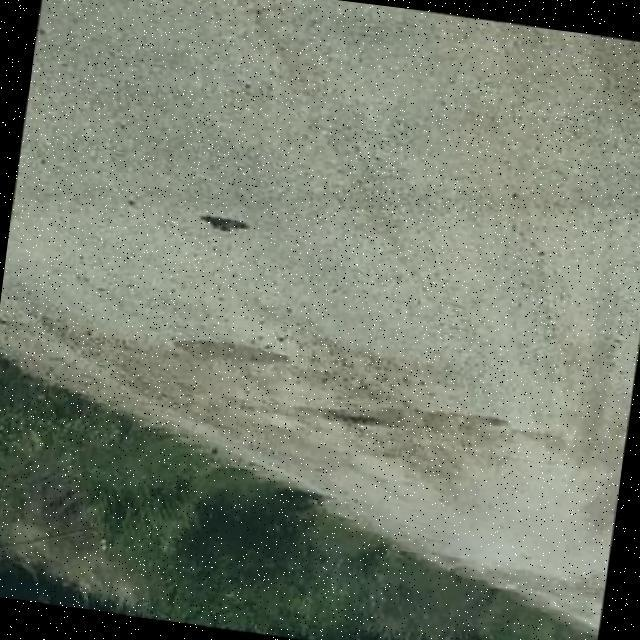Pothole: (169, 337, 290, 366), (319, 400, 420, 427)
